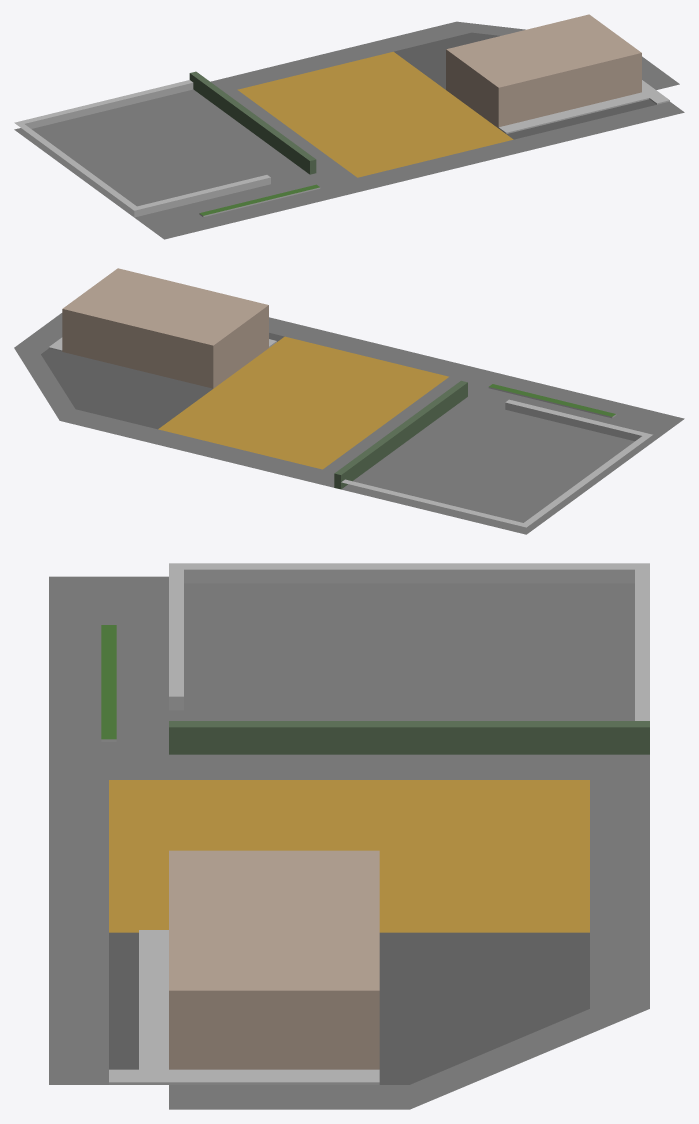
The model's file is bus.glb.
The picture shows the model from 3 angles, top to bottom: view 1: azimuth 30°, elevation 25°; view 2: azimuth 150°, elevation 25°; view 3: azimuth 270°, elevation 25°; orthographic projection. The views are drawn at different scales.
Parts seen in each view (by area): view 1: Ground, Building, Fences, Sidewalk; view 2: Ground, Building, Fences; view 3: Ground, Building, Fences, Sidewalk.
Boxes of the visible parts, x1,y1,x2,y2 form: Ground: (14,21,684,239); Building: (446,14,641,128); Fences: (14,71,320,217); Sidewalk: (498,80,669,139); Ground: (14,313,684,534); Building: (62,268,268,388); Fences: (334,380,652,527); Ground: (49,576,649,1109); Building: (169,850,379,1069); Fences: (101,563,649,754); Sidewalk: (109,930,379,1084).
Size of what is drawn, in the model's own units: 83.9 by 6 by 40.
